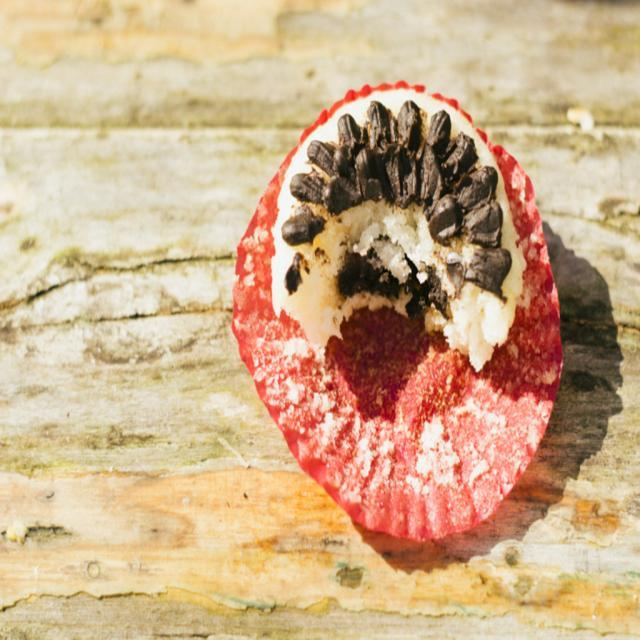Cookie: (269, 83, 527, 370)
